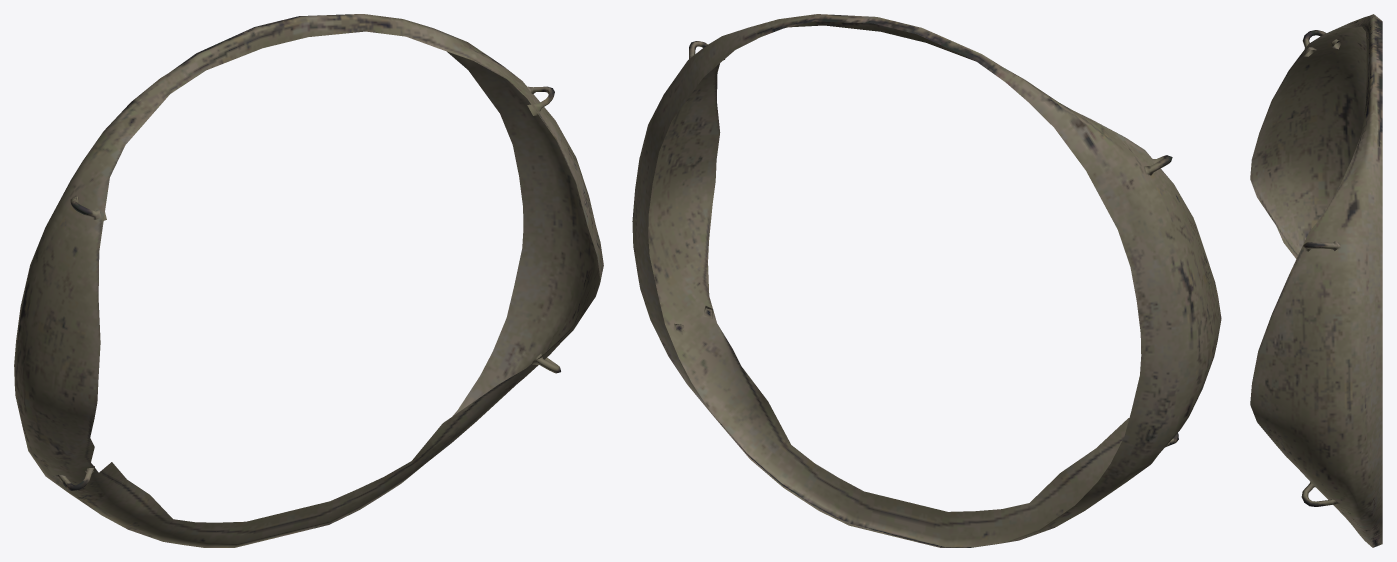
Rendered from Turret_01.glb.
3 views of the same model, side by side, from view 1: azimuth 30°, elevation 25°; view 2: azimuth 150°, elevation 25°; view 3: azimuth 270°, elevation 25° (orthographic). The views are drawn at different scales.
Visible parts, largest first — view 1: set_0_group_0; view 2: set_0_group_0; view 3: set_0_group_0.
Boxes of the visible parts, x1=… form: set_0_group_0: x1=14, y1=14, x2=603, y2=547; set_0_group_0: x1=632, y1=14, x2=1221, y2=547; set_0_group_0: x1=1250, y1=14, x2=1382, y2=547.
Bounding box in the file's own units: 2.95 × 2.55 × 0.6481.
1 material, 1 textured.
